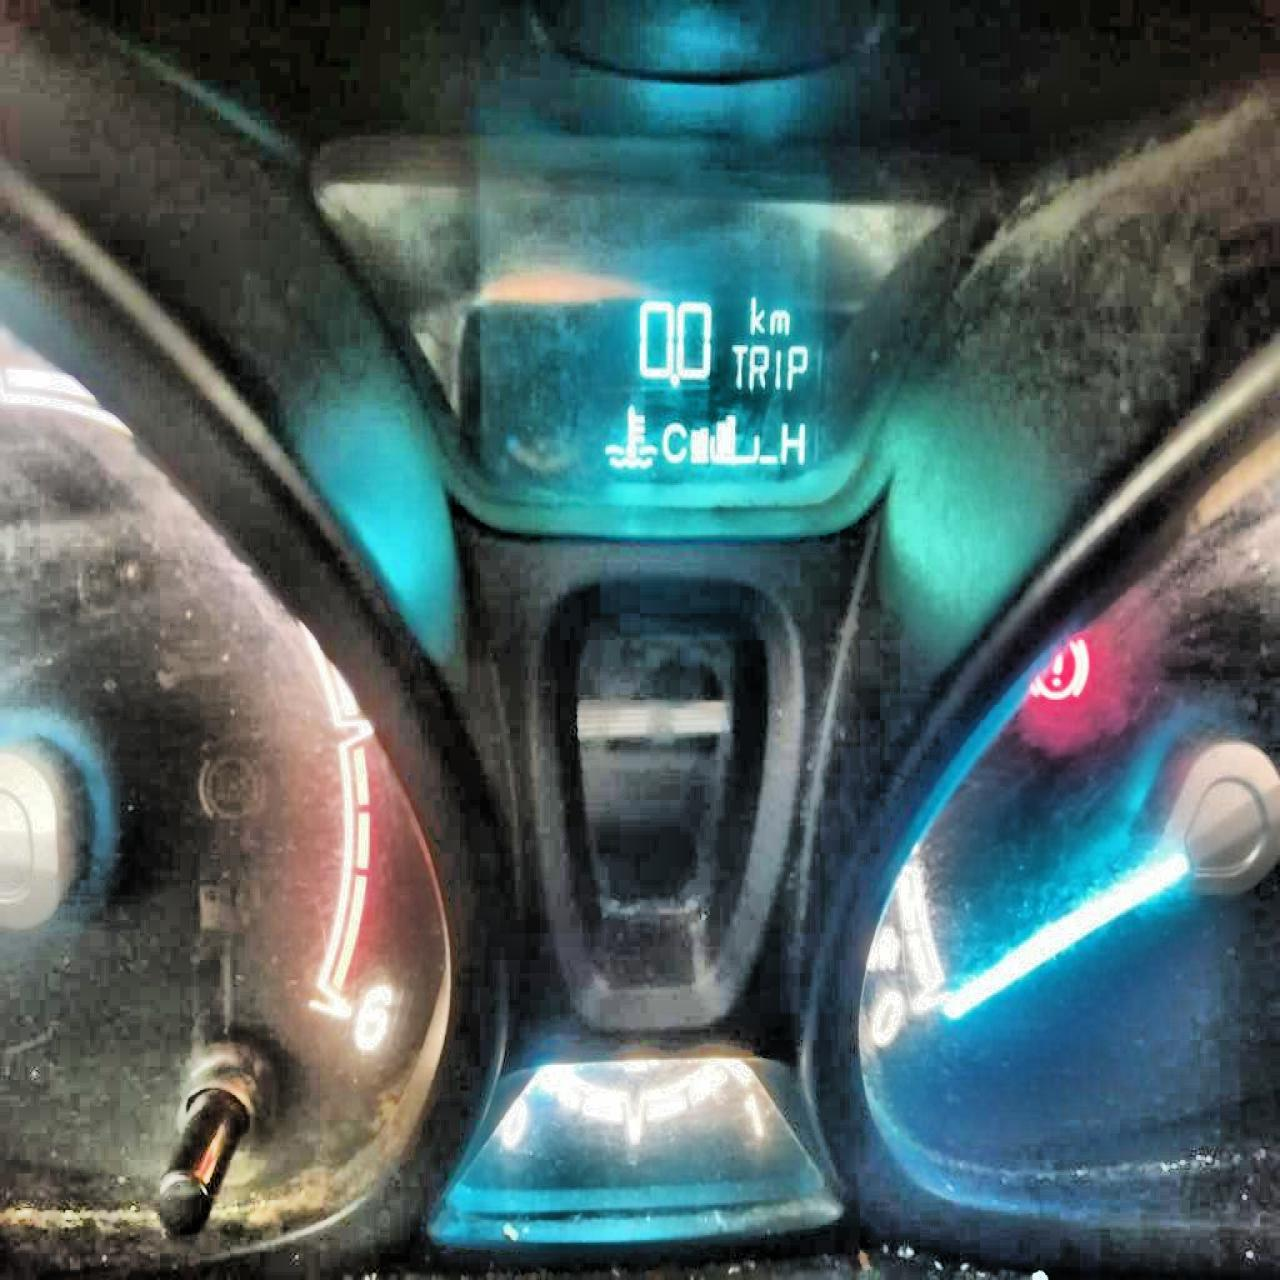-: (667, 367, 681, 393)
0: (635, 293, 674, 379), (676, 294, 712, 379)
X: (778, 416, 810, 467), (659, 417, 688, 468), (787, 339, 809, 392), (749, 290, 769, 335), (747, 342, 764, 390), (730, 340, 745, 387), (770, 305, 790, 335), (772, 346, 783, 392)
odometer: (451, 268, 855, 499)
